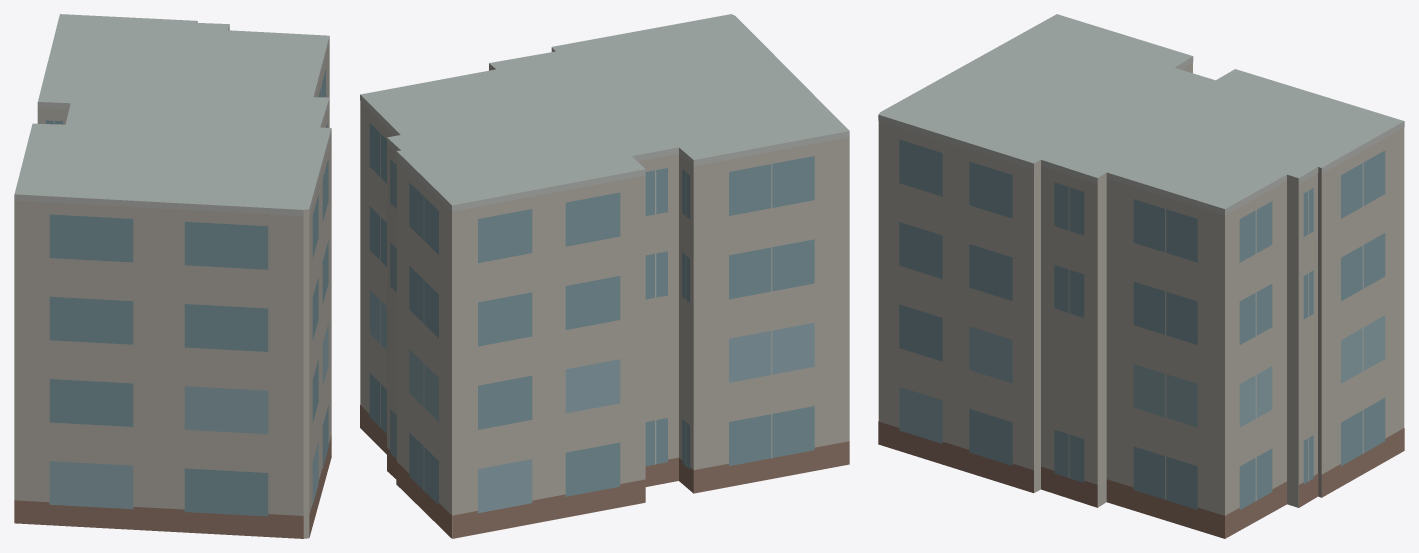
The model's file is survey-upis-32824762.glb.
The picture shows the model from 3 angles, left to right: view 1: azimuth 30°, elevation 25°; view 2: azimuth 150°, elevation 25°; view 3: azimuth 270°, elevation 25°; orthographic projection.
Parts seen in each view (by area): view 1: survey-upis-32824762.tmp; view 2: survey-upis-32824762.tmp; view 3: survey-upis-32824762.tmp.
Boxes of the visible parts, x1,y1,x2,y2 form: survey-upis-32824762.tmp: [14, 14, 331, 538]; survey-upis-32824762.tmp: [360, 14, 849, 538]; survey-upis-32824762.tmp: [878, 14, 1404, 538].
Size of the model in its own units: 16.7 by 13.15 by 19.02.
